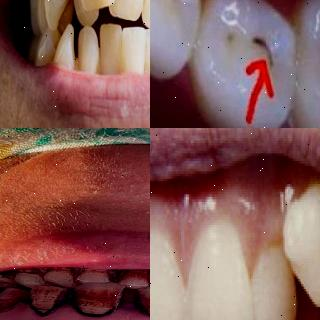cavities: (254, 32, 272, 58)
maligned: (272, 184, 320, 300), (255, 249, 304, 320), (96, 23, 124, 75), (120, 28, 150, 72), (76, 28, 101, 72), (56, 30, 80, 74), (74, 0, 121, 20), (28, 0, 70, 16), (68, 0, 97, 20), (140, 28, 150, 64)
stains: (75, 286, 119, 320), (32, 289, 69, 315), (49, 264, 78, 293), (117, 266, 150, 290), (76, 270, 111, 290), (15, 266, 45, 289), (0, 288, 22, 314), (137, 294, 150, 320), (0, 268, 18, 286)
